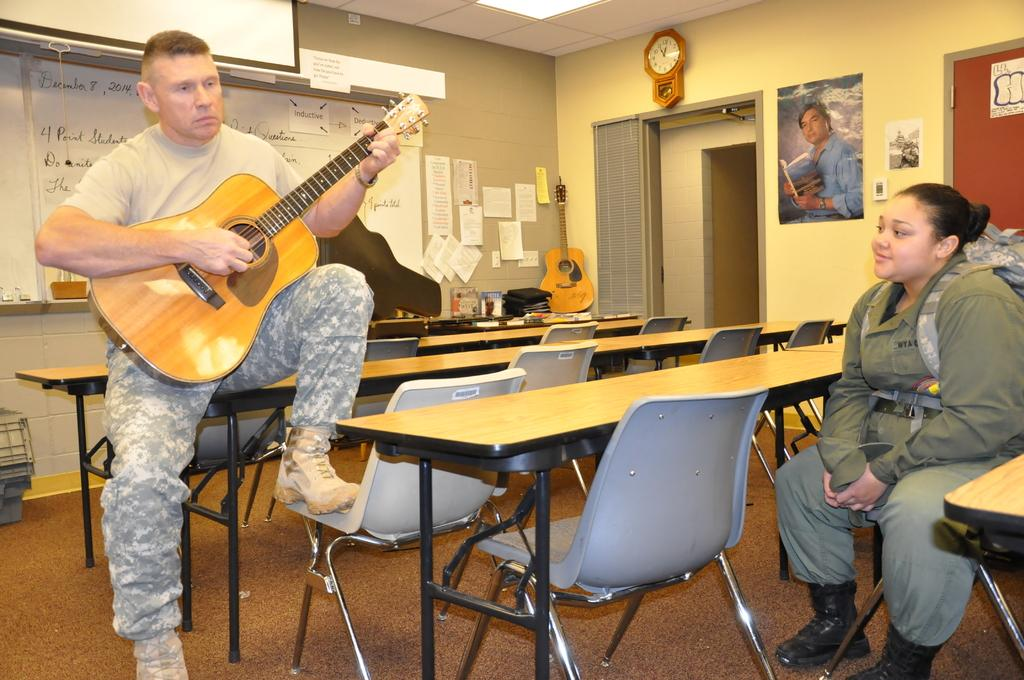Chair: (486, 353, 787, 677), (282, 366, 580, 679), (269, 337, 424, 522), (466, 337, 605, 541), (696, 321, 781, 500), (172, 409, 280, 529), (760, 318, 831, 478), (531, 324, 601, 380), (618, 318, 687, 373)
